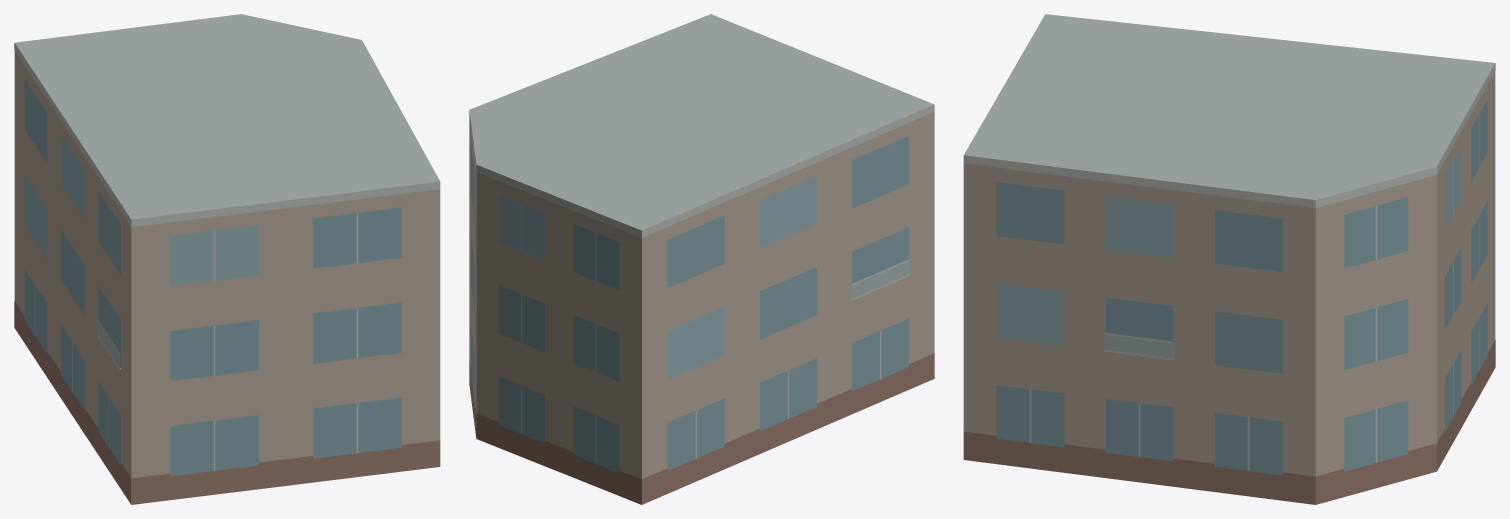
Rendered from survey-upis-32799752.glb.
3 views of the same model, side by side, from view 1: azimuth 30°, elevation 25°; view 2: azimuth 150°, elevation 25°; view 3: azimuth 270°, elevation 25° (orthographic). The views are drawn at different scales.
Parts seen in each view (by area): view 1: survey-upis-32799752.tmp; view 2: survey-upis-32799752.tmp; view 3: survey-upis-32799752.tmp.
Part boxes in pixels (x1,y1,x2,y2): survey-upis-32799752.tmp: (14, 14, 440, 504); survey-upis-32799752.tmp: (469, 14, 934, 504); survey-upis-32799752.tmp: (963, 14, 1495, 504).
Size of the model in its own units: 12 by 9.15 by 14.48.
